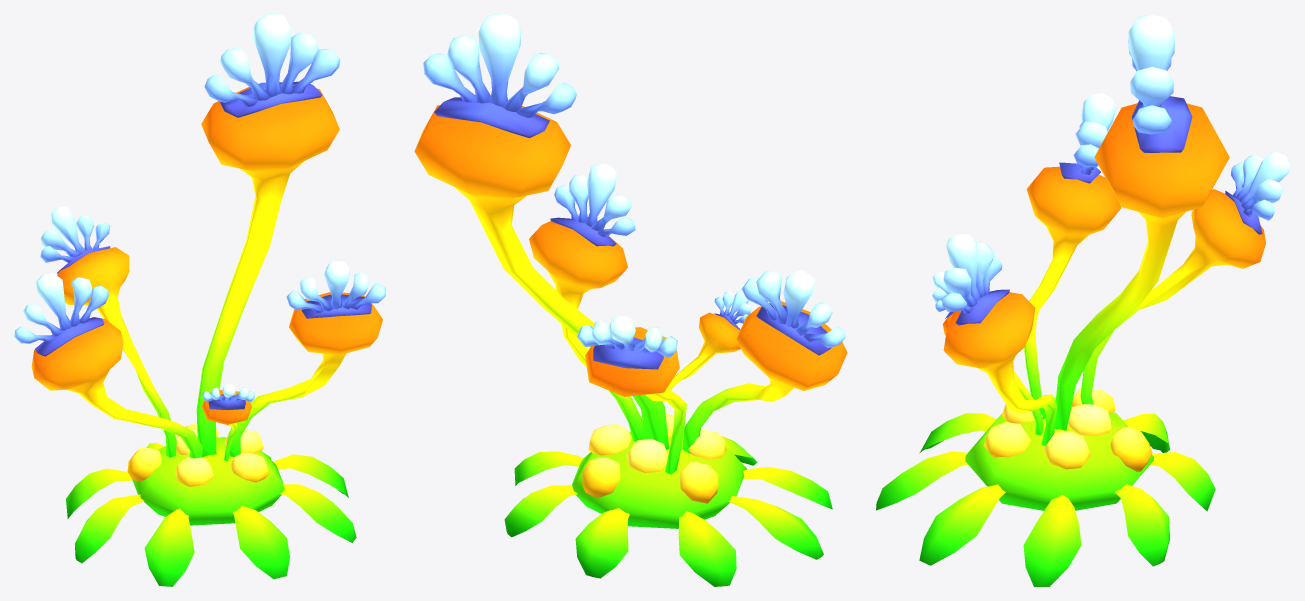
File: violet_alien_anemone.glb
3 views of the same model, side by side, from view 1: azimuth 30°, elevation 25°; view 2: azimuth 150°, elevation 25°; view 3: azimuth 270°, elevation 25° (orthographic). The views are drawn at different scales.
Parts seen in each view (by area): view 1: Violet Alien Anemone; view 2: Violet Alien Anemone; view 3: Violet Alien Anemone.
Part boxes in pixels (<box>): Violet Alien Anemone: <box>14,14,385,586</box>; Violet Alien Anemone: <box>414,14,847,586</box>; Violet Alien Anemone: <box>876,14,1290,586</box>.
Size of the model in its own units: 0.9893 by 1.24 by 0.8421.
1 material, 1 textured.
